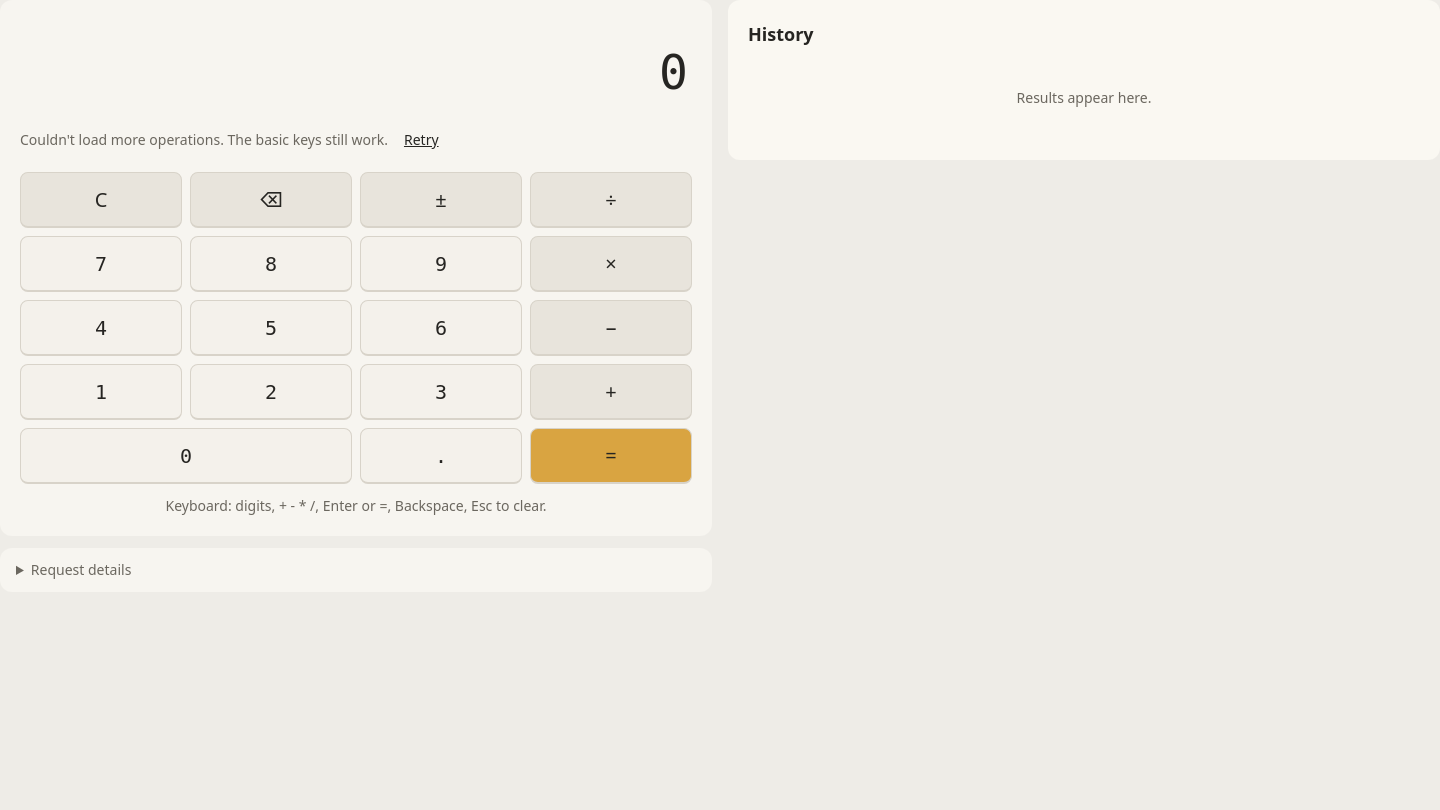
Scenario: Calculator › main flows › tells the user when the backend is down, and the basic keys still respond
Expected: the text "Couldn't load more operations. The basic keys still work." is shown, [20, 130, 388, 149]
Click the button "2" at [271, 392], box [190, 364, 352, 420]
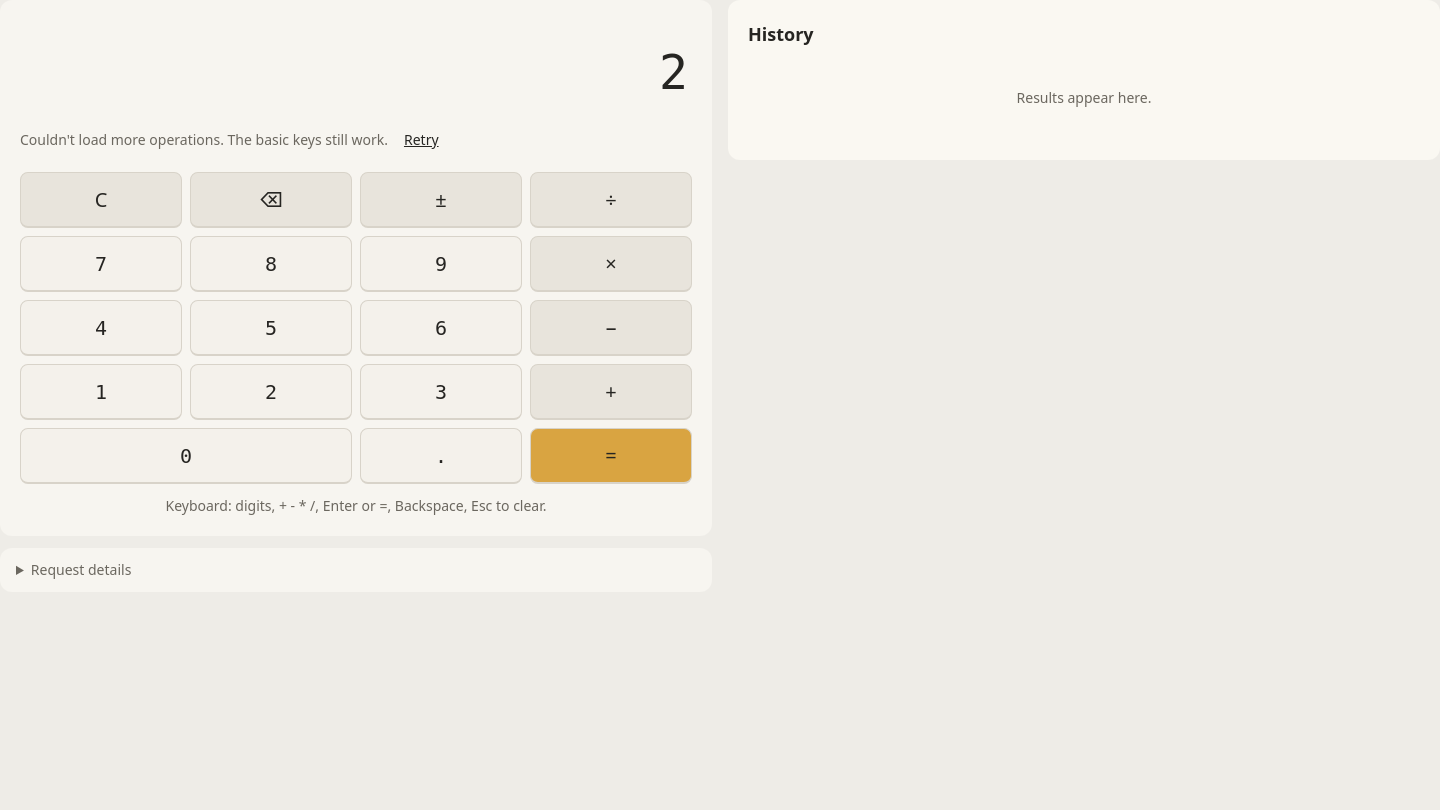
Click the button named "Add" at [611, 392], box [530, 364, 692, 420]
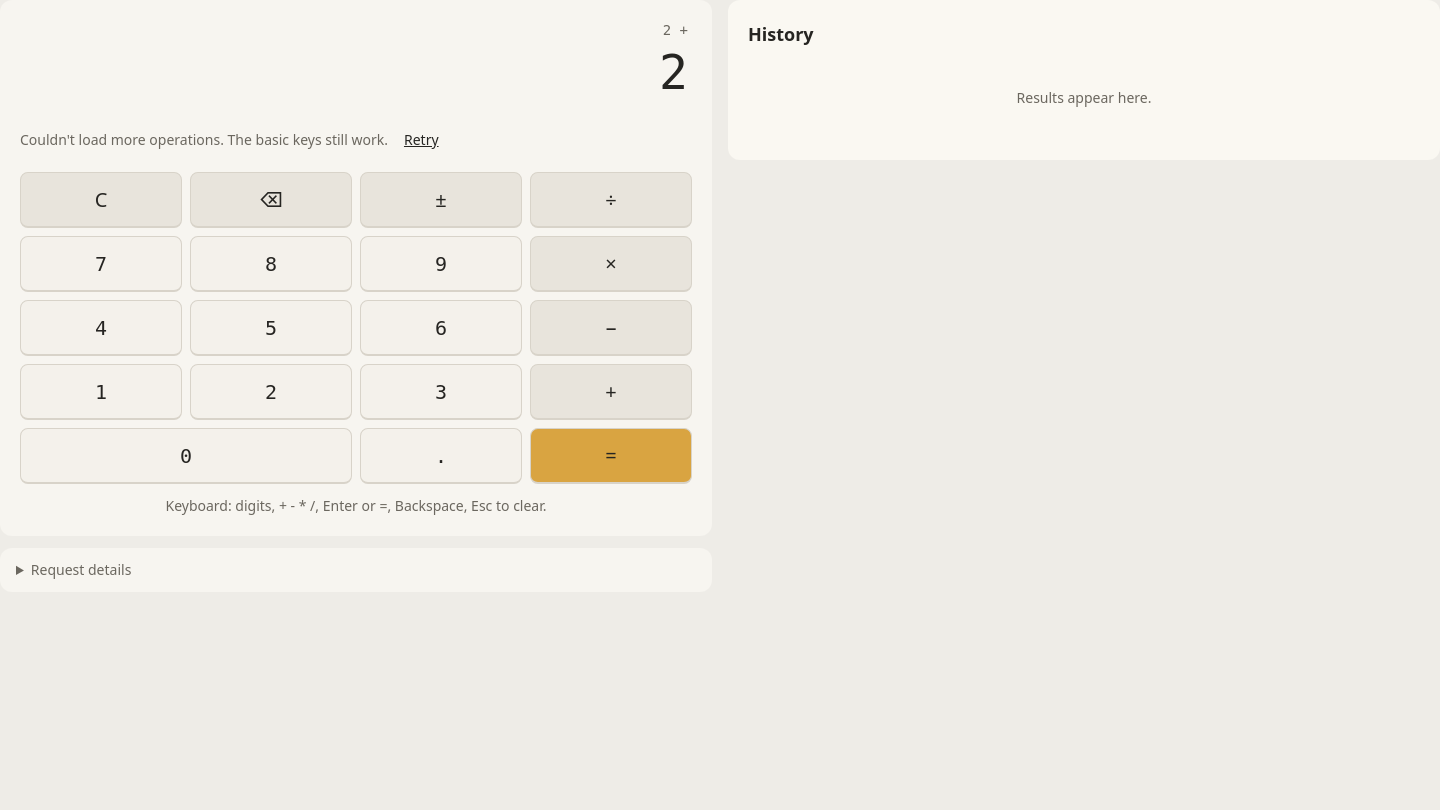
Click the button "3" at [441, 392], box [360, 364, 522, 420]
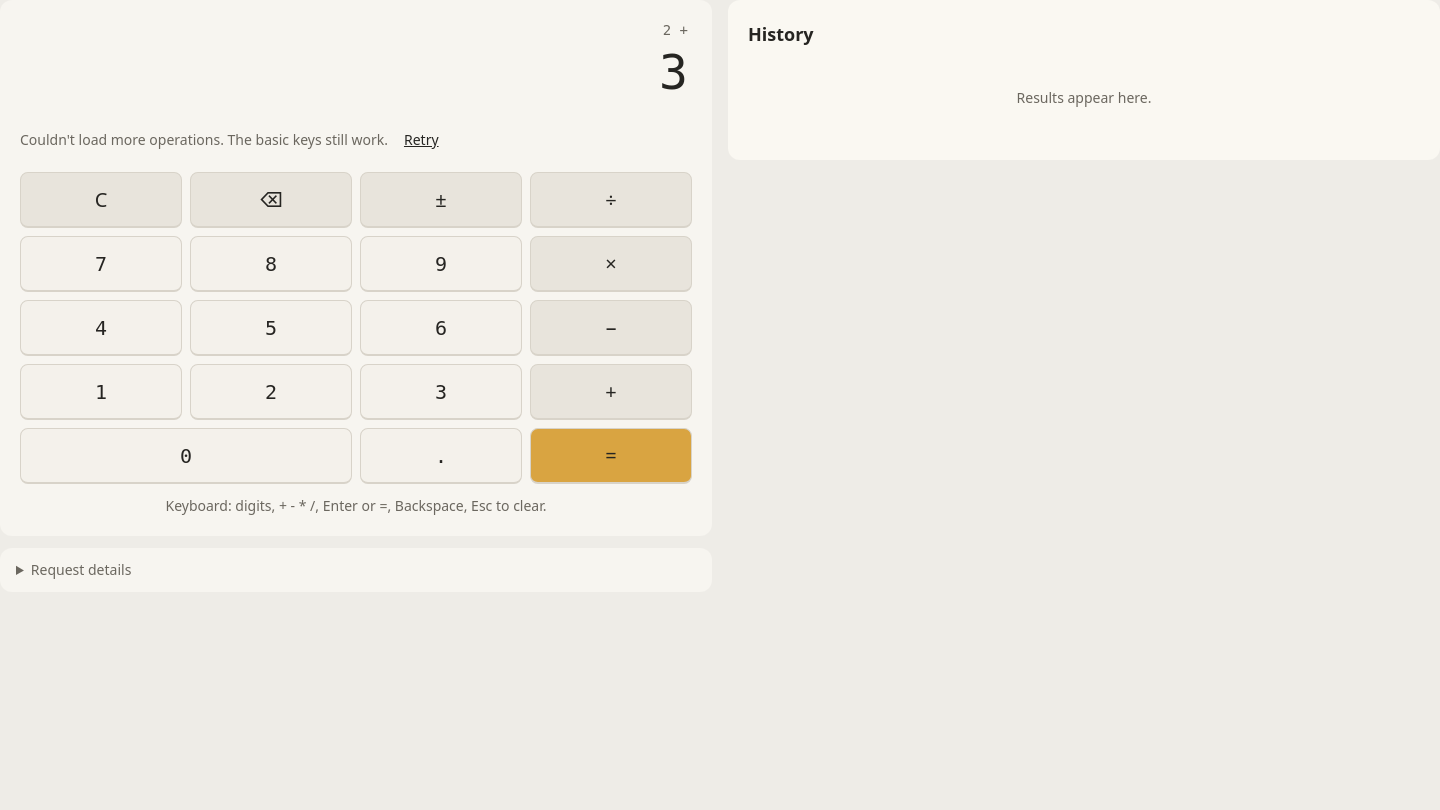
Click the button named "Equals" at [611, 456], box [530, 428, 692, 484]
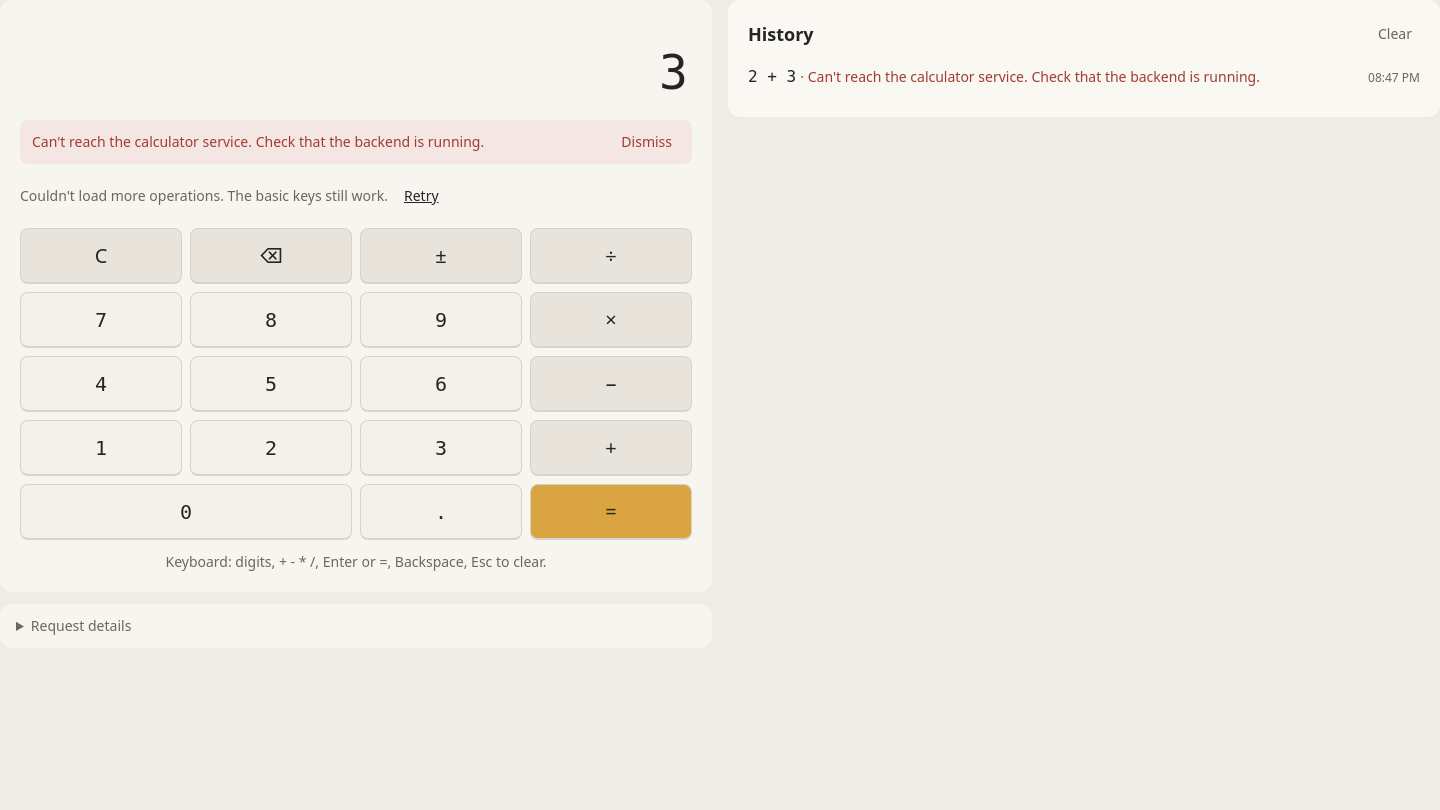
Expected: the button "7" is enabled, [20, 292, 182, 348]
Expected: the message shows "Can't reach the calculator service. Check that the backend is running.", [32, 132, 484, 151]
